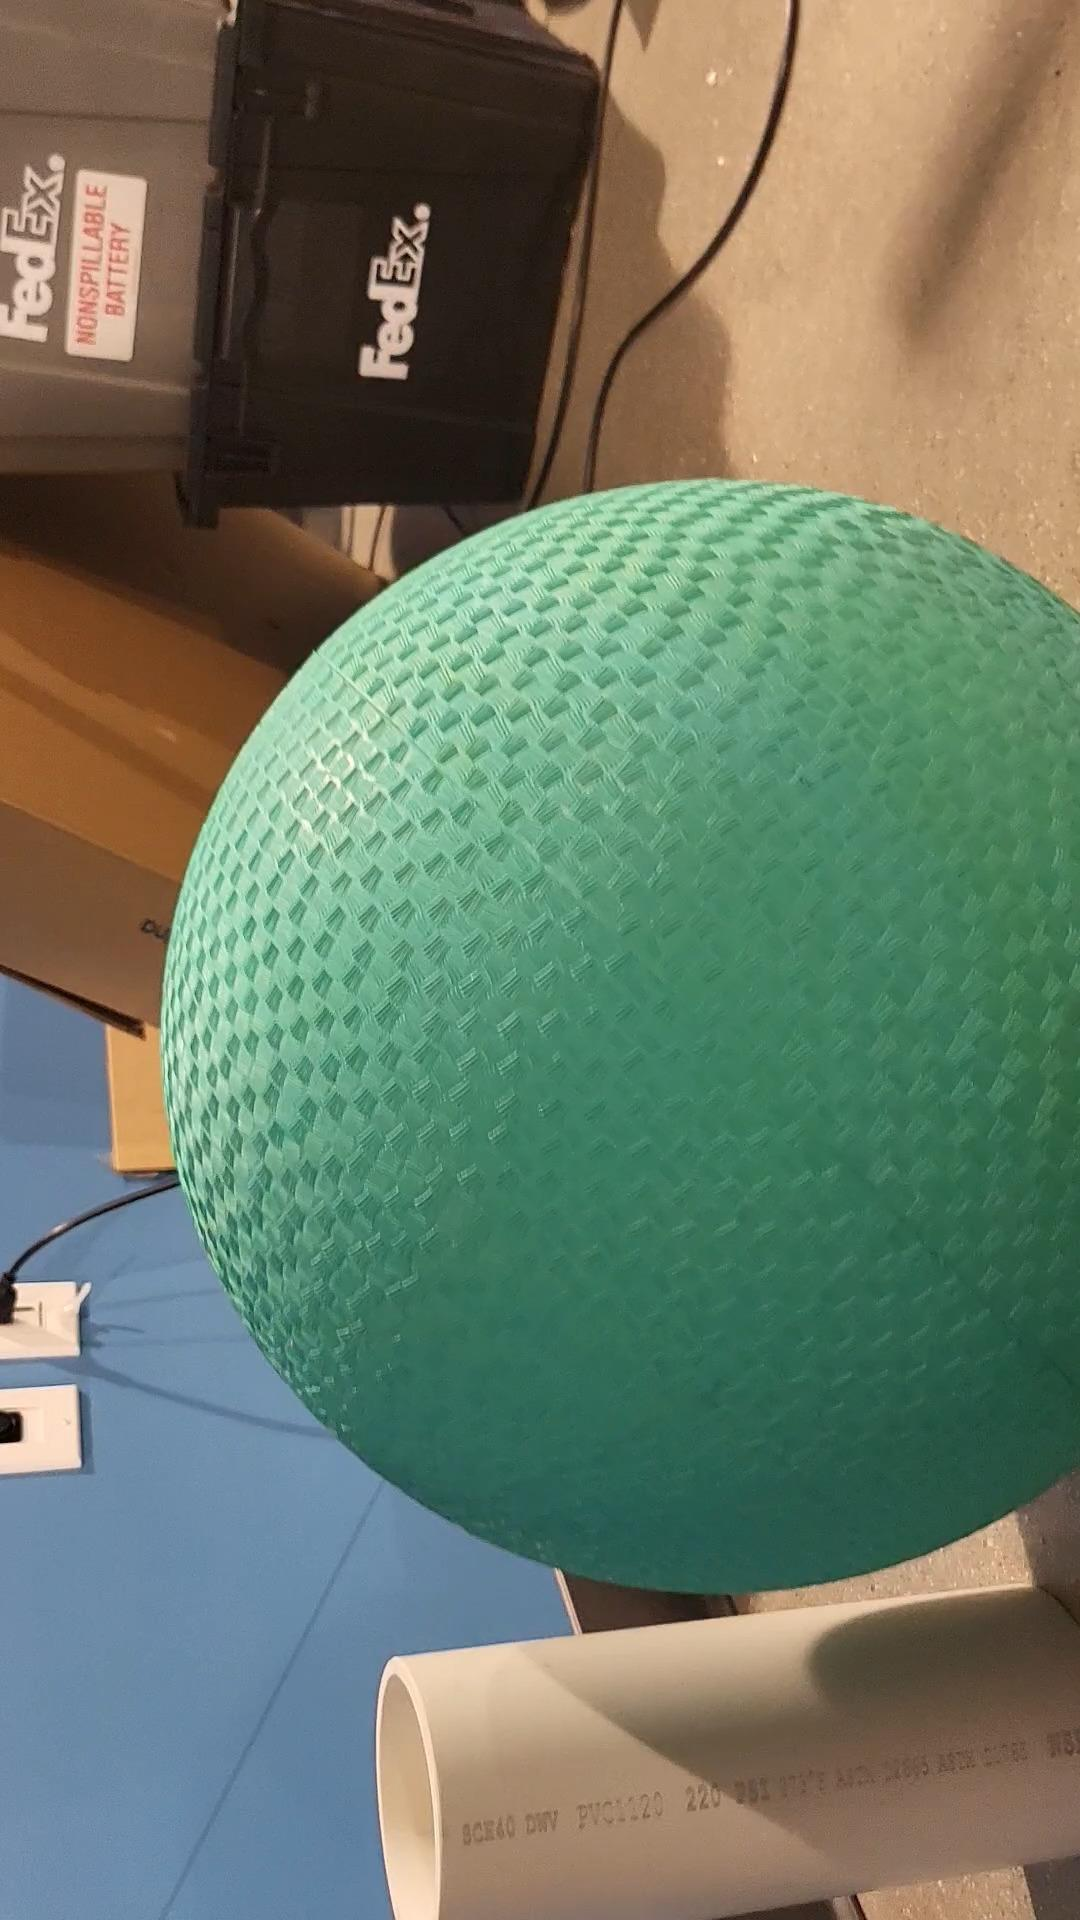algae: (164, 484, 1080, 1600)
coral: (373, 1584, 1080, 1920)
